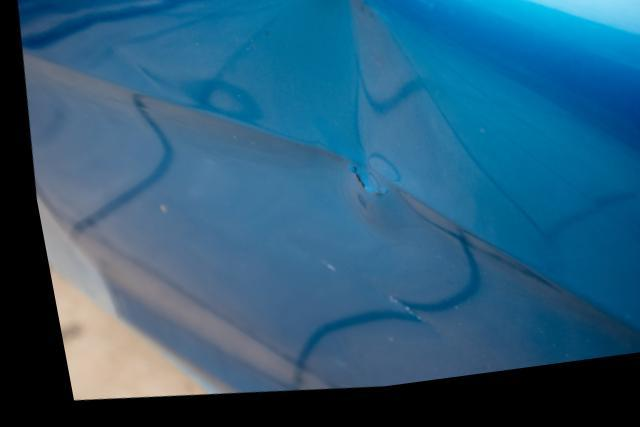dent: (247, 0, 431, 280)
